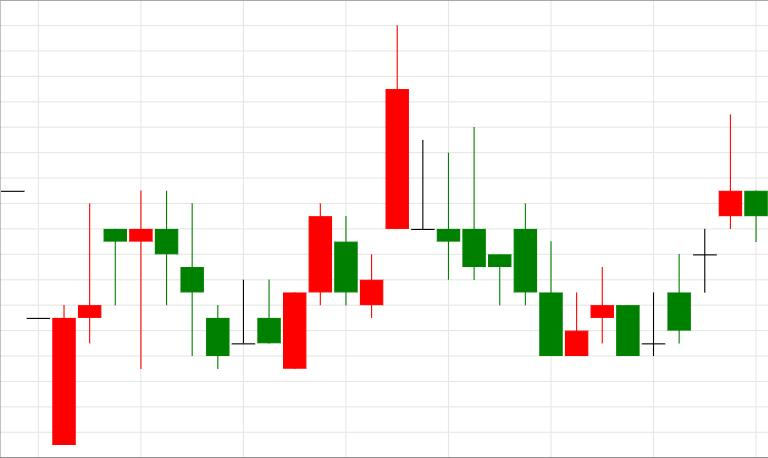inverse_hammer_rise: (411, 126, 588, 356)
shooting_star_fall: (616, 115, 743, 356)
